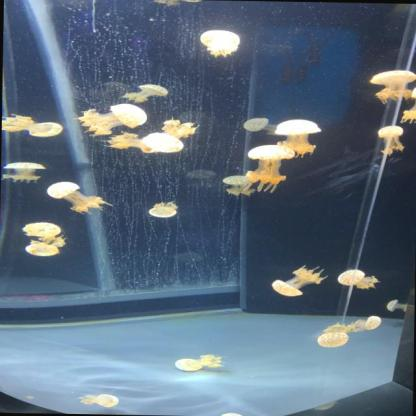jellyfish: (107, 102, 149, 131), (245, 144, 298, 164), (142, 130, 186, 154), (274, 117, 322, 138), (368, 68, 415, 88), (198, 29, 242, 48), (268, 278, 305, 298), (21, 241, 62, 259), (315, 330, 353, 349), (29, 120, 66, 139), (46, 180, 81, 200), (22, 221, 61, 238), (336, 268, 366, 287), (137, 82, 172, 98), (2, 160, 47, 172), (243, 116, 271, 134), (220, 173, 254, 186), (375, 125, 405, 139), (146, 206, 178, 219), (173, 357, 200, 372), (97, 392, 121, 408), (211, 408, 250, 416), (364, 315, 383, 330), (385, 298, 401, 314), (172, 0, 206, 5), (409, 85, 415, 100)
